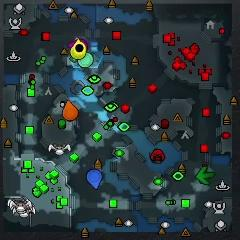p1: (86, 169, 100, 189)
p2: (78, 52, 94, 68)
p3: (67, 38, 88, 51)
p4: (71, 39, 86, 59)
p4Clone: (74, 42, 85, 53)
p5: (63, 100, 78, 120)
x4: (197, 166, 213, 184)
